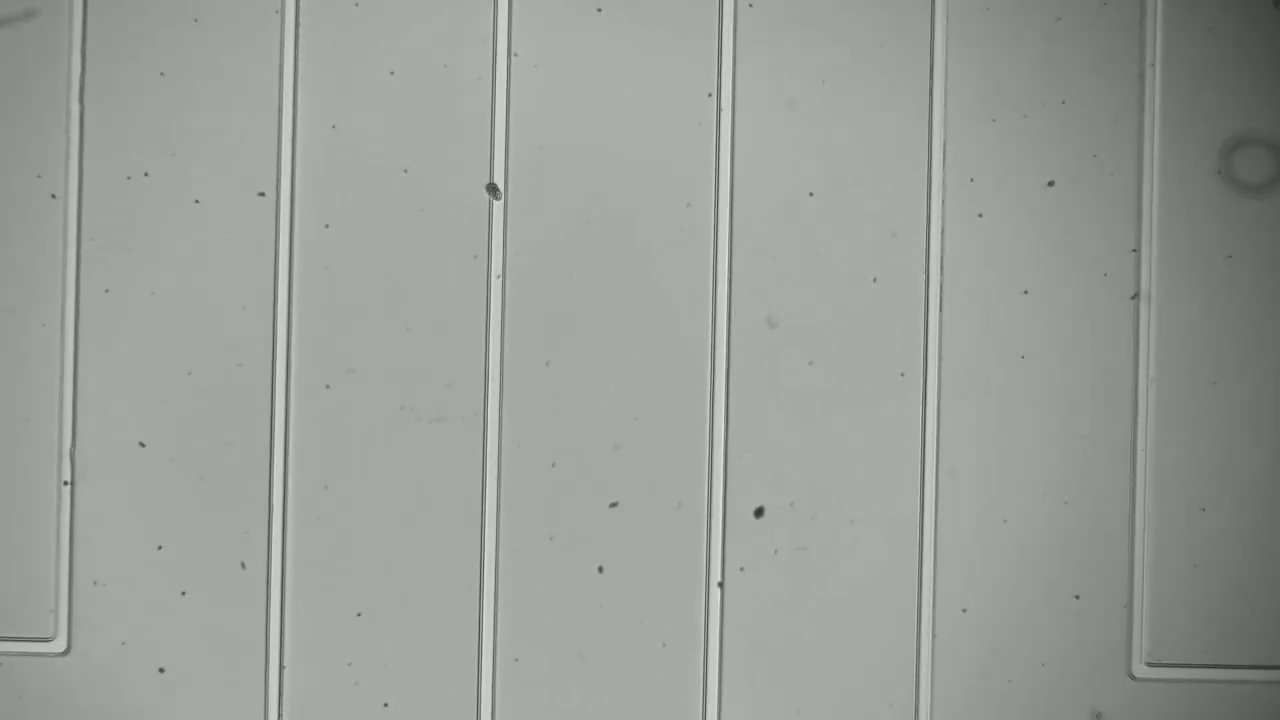stains_enbedded: (477, 171, 516, 209), (698, 566, 730, 595)
